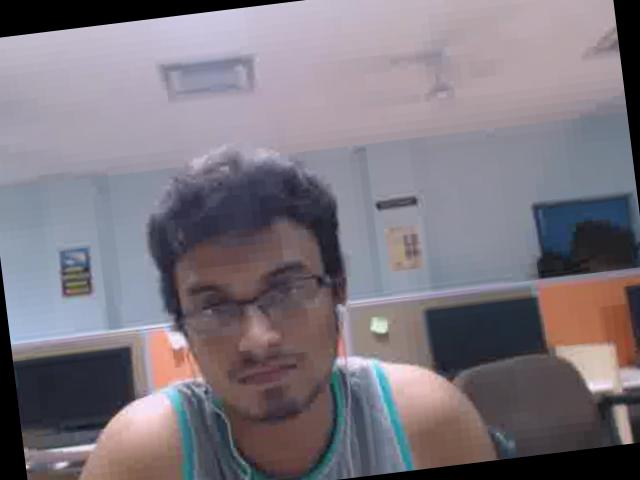bosan: (167, 198, 357, 439)
